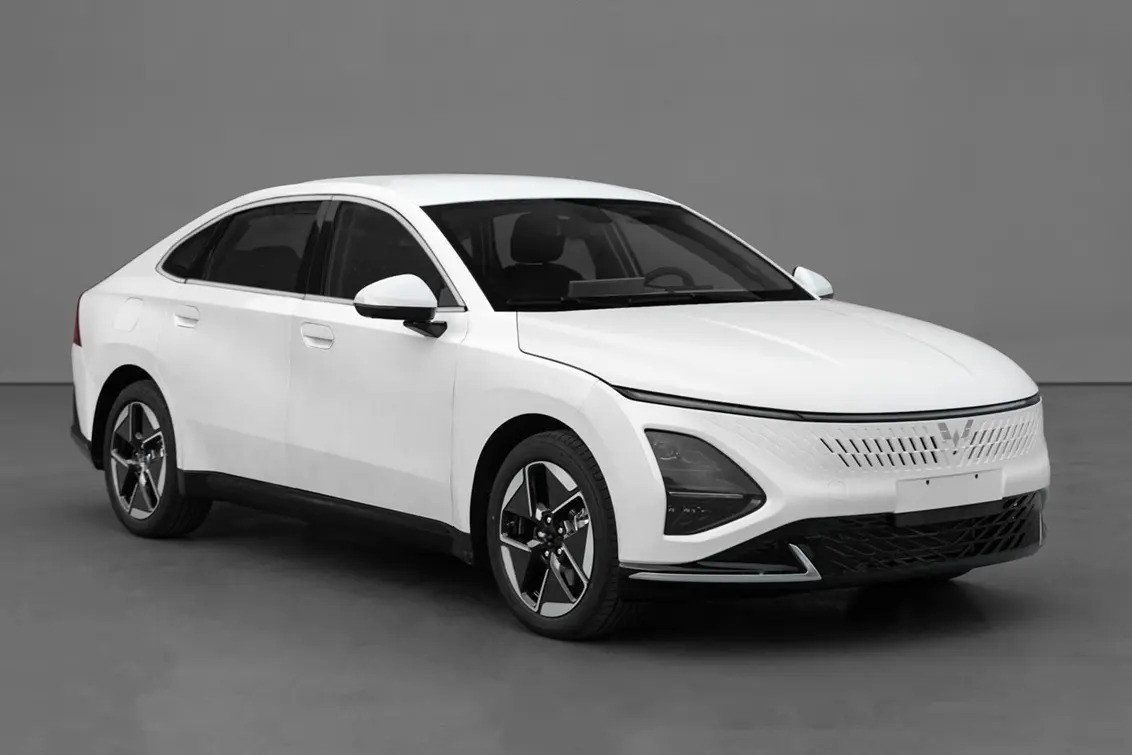SGMW: (938, 420, 973, 445)
